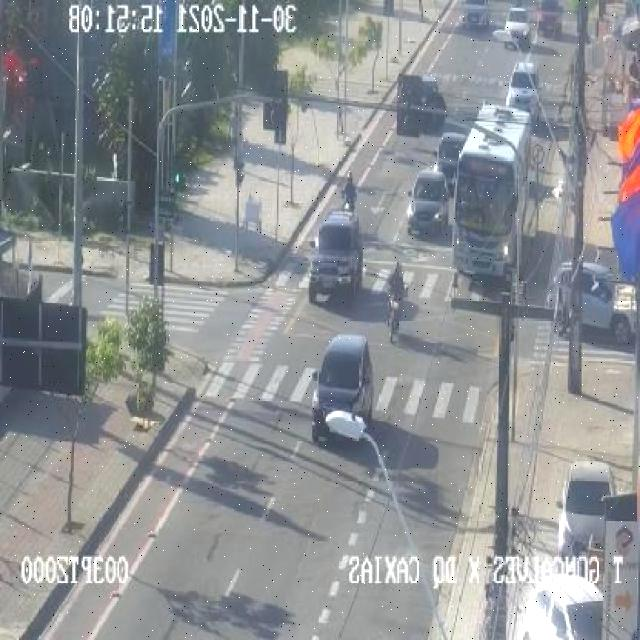Bus: (445, 110, 536, 288)
Car: (548, 262, 636, 347), (313, 331, 382, 435), (516, 574, 605, 639), (558, 462, 616, 558), (308, 208, 364, 303), (407, 168, 450, 238), (506, 62, 540, 120), (436, 136, 466, 192), (496, 7, 533, 49), (534, 0, 564, 38), (461, 0, 490, 29)
